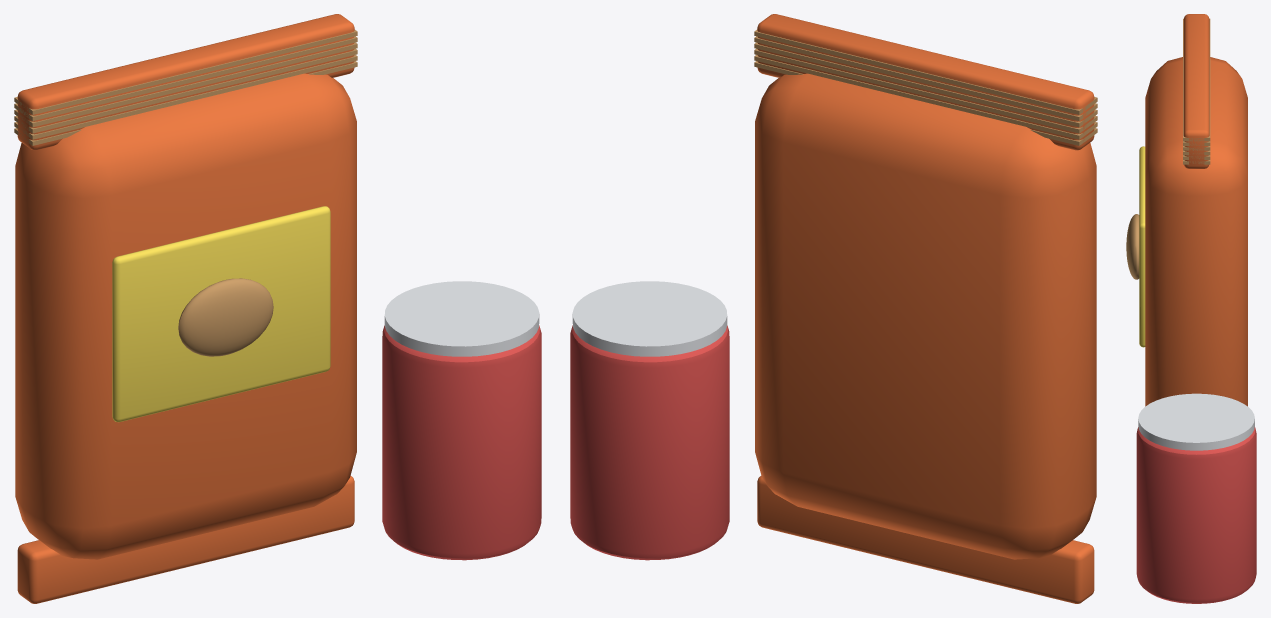
File: snack.glb
The picture shows the model from 3 angles, left to right: view 1: azimuth 30°, elevation 25°; view 2: azimuth 150°, elevation 25°; view 3: azimuth 270°, elevation 25°; orthographic projection. The views are drawn at different scales.
Parts seen in each view (by area): view 1: bag, can, label.002, seamB, seamT, canlid, chip, zt4, zt3, zt1, zt5, zt2; view 2: bag, can, seamB, seamT, canlid, zt4, zt5, zt1, zt3, zt2; view 3: bag, can, canlid, seamT, label.002, chip, zt5.
Boxes of the visible parts, x1,y1,x2,y2 form: bag: (15,73,356,559); can: (382,325,541,560); label.002: (112,206,330,422); seamB: (17,476,354,603); seamT: (17,14,354,150); canlid: (384,281,539,356); chip: (178,278,273,356); zt4: (14,36,357,120); zt3: (14,42,357,127); zt1: (14,55,357,139); zt5: (14,29,357,114); zt2: (14,48,357,133); bag: (755,73,1096,559); can: (570,325,729,560); seamB: (757,476,1094,603); seamT: (757,14,1094,150); canlid: (572,281,727,356); zt4: (754,36,1097,120); zt5: (754,29,1097,114); zt1: (754,55,1097,139); zt3: (754,42,1097,127); zt2: (754,48,1097,133); bag: (1145,57,1247,406); can: (1136,427,1256,603); canlid: (1138,393,1254,450); seamT: (1183,14,1209,168); label.002: (1139,146,1145,347); chip: (1126,214,1139,279); zt5: (1183,18,1210,141).
Size of the model in its own units: 0.515 by 0.525 by 0.152.
